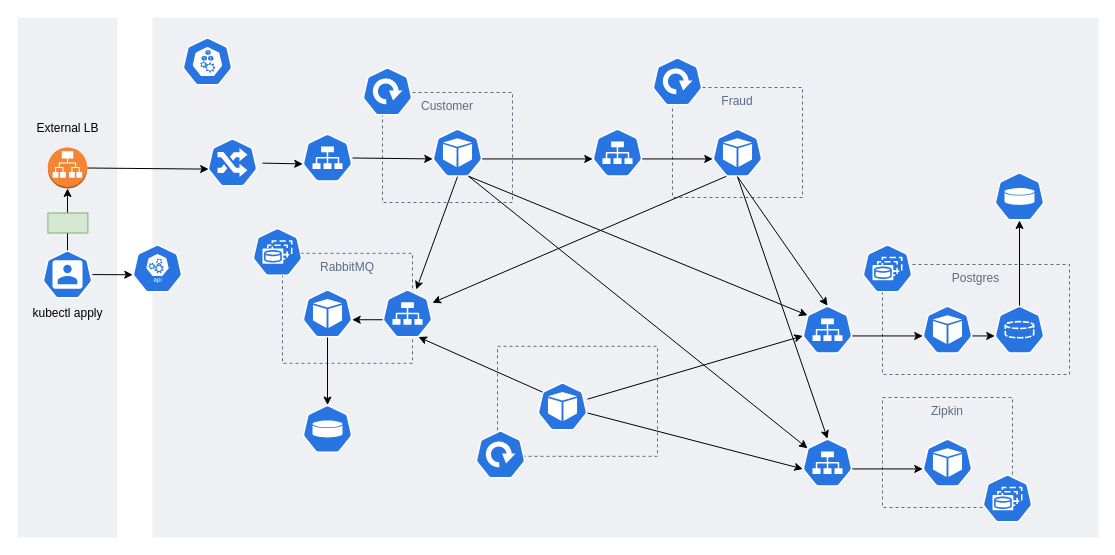
Image size: 1115x555. Some labels were removed from this diagram. Here are the shapes that lost their labels. From the top down, the box of each, then its label:
(47, 212, 88, 233): HTTP
(496, 345, 658, 456): Notification
